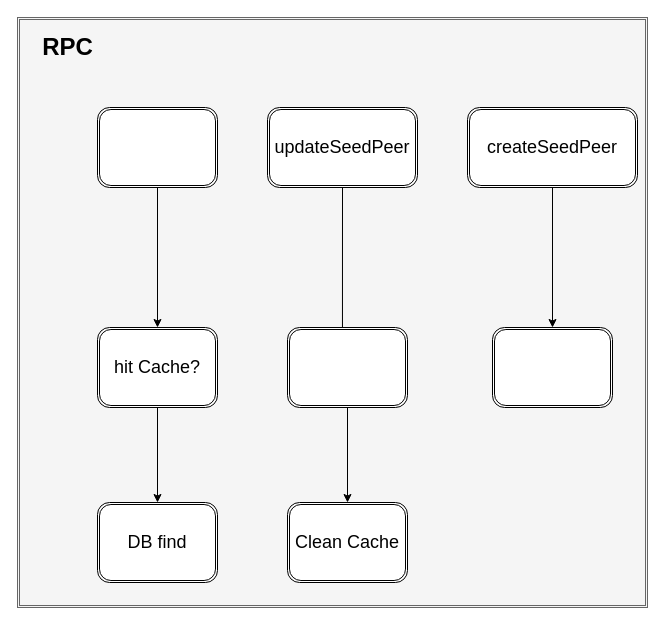
This 665x625 diagram has some shape labels left out. Here are the shapes that lost their labels. From the top down, the box of each, then its label:
(96, 106, 218, 188): getSeedPeer
(286, 326, 408, 408): DB update
(492, 326, 612, 408): DB create
